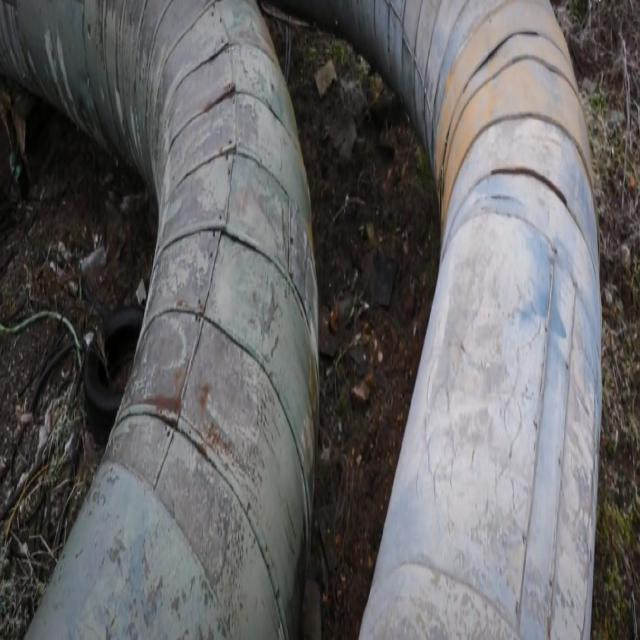gas: (3, 0, 321, 640), (314, 4, 605, 640)
